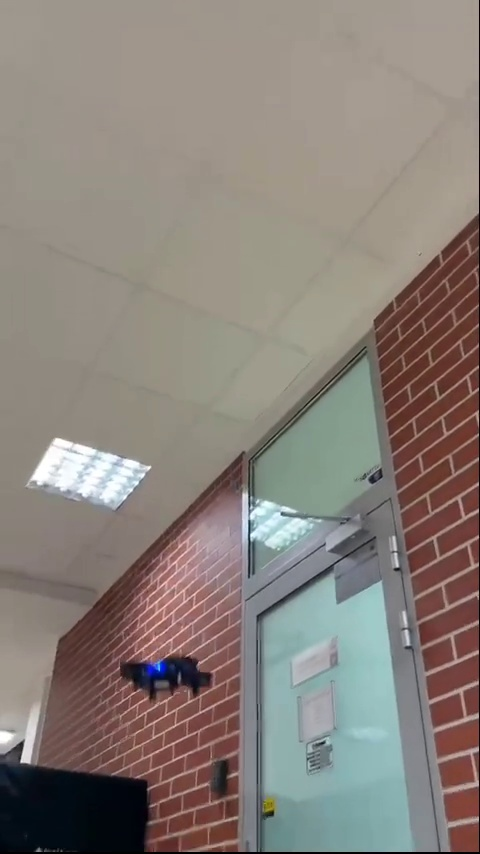drone: (119, 652, 212, 694)
